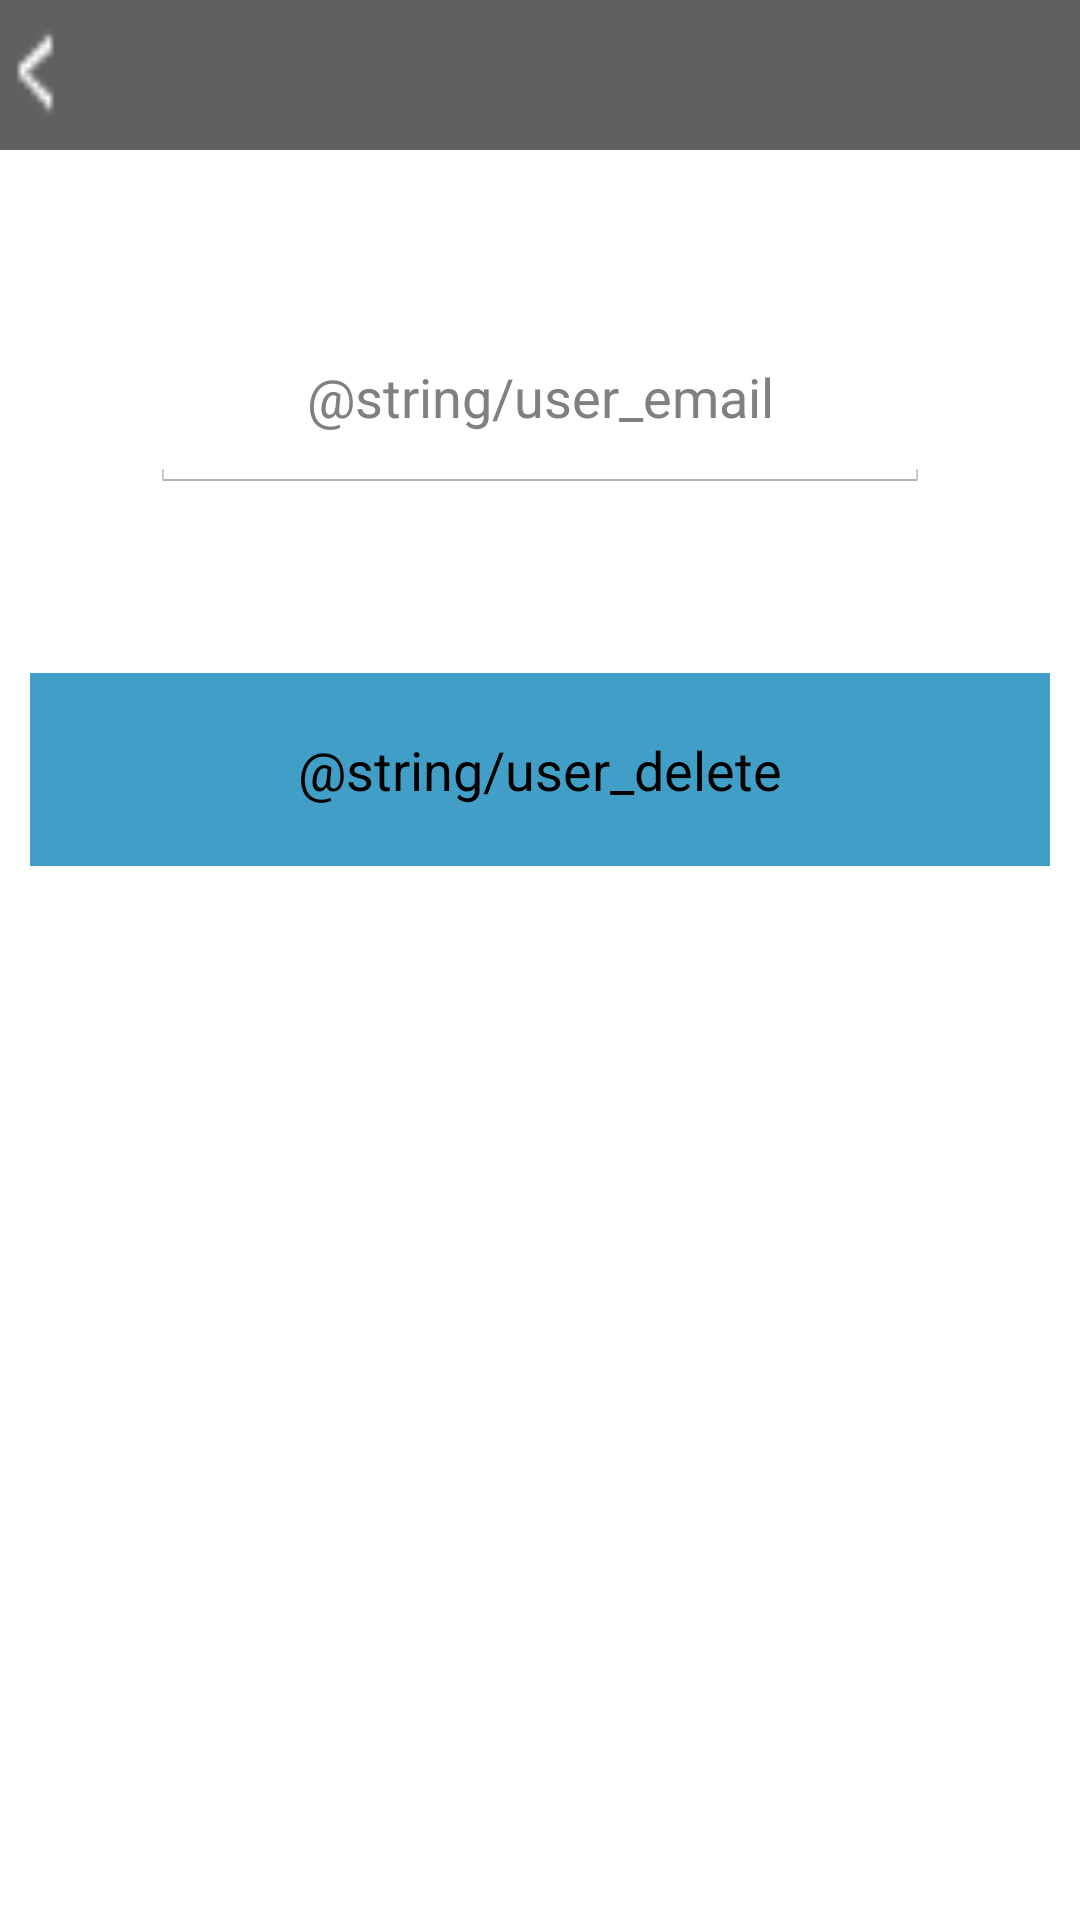

Where icons sit on this 1080*1920 app screen, as (x1, y1, x2, y2):
backicon: (17, 34, 54, 112)
